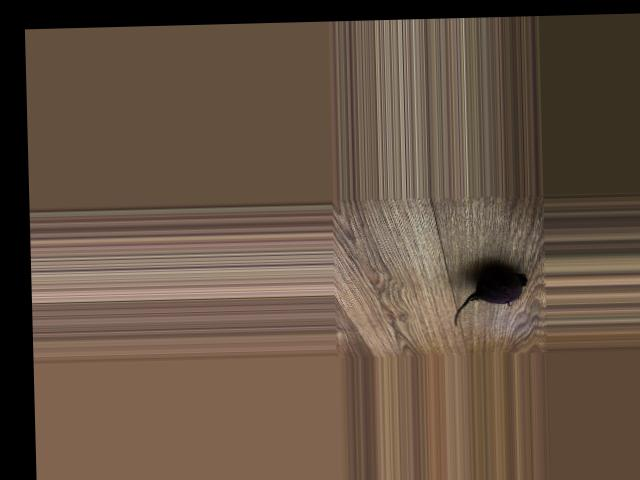beet: (451, 268, 526, 326)
